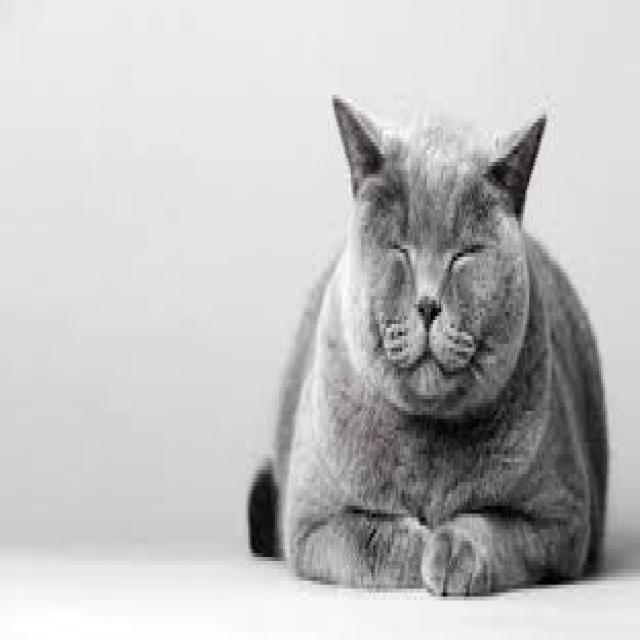Cat: (242, 83, 612, 604)
